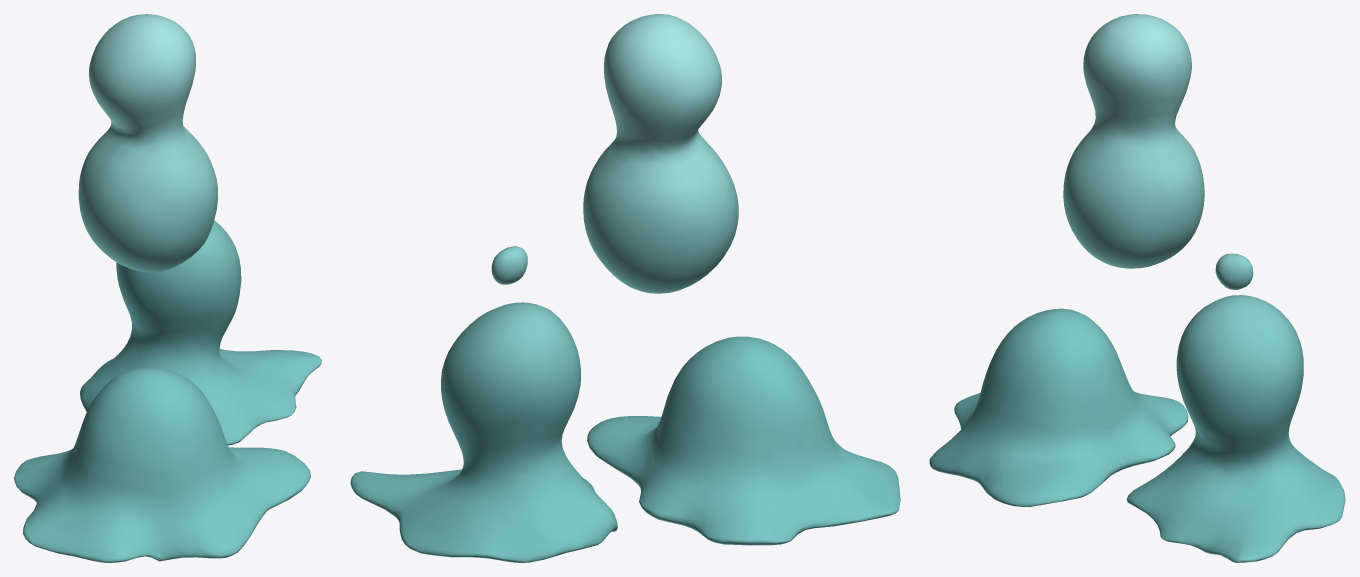
The model's file is sky_bubble_b.glb.
The picture shows the model from 3 angles, left to right: view 1: azimuth 30°, elevation 25°; view 2: azimuth 150°, elevation 25°; view 3: azimuth 270°, elevation 25°; orthographic projection. The views are drawn at different scales.
Visible parts, largest first — view 1: bubble_b; view 2: bubble_b; view 3: bubble_b.
Boxes of the visible parts, x1,y1,x2,y2 form: bubble_b: [14, 14, 321, 562]; bubble_b: [350, 14, 900, 562]; bubble_b: [929, 14, 1345, 562].
Bounding box in the file's own units: 7.26 × 8.11 × 6.62.
1 material, 1 textured.
